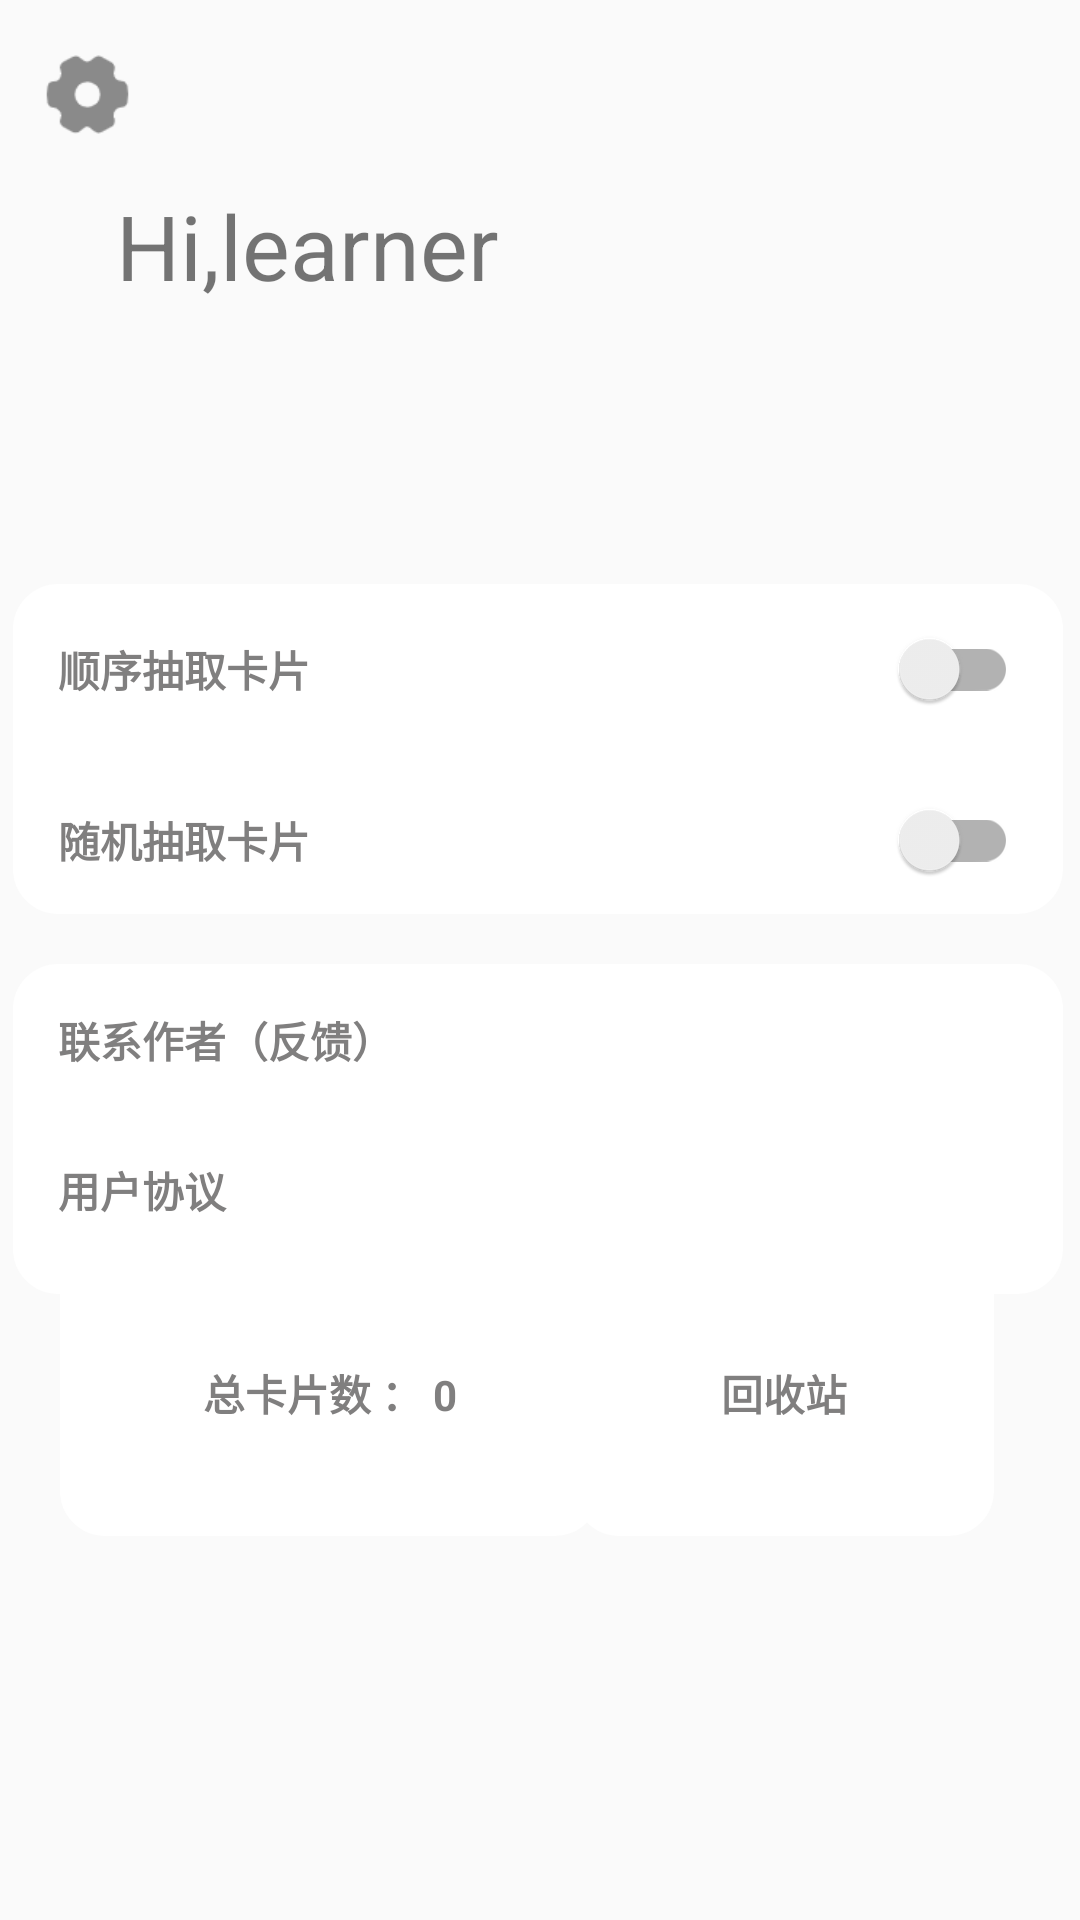

Named icons in this screenshot (1080 x 1920) and their centers, (x=x, y=y):
setting: (x=87, y=94)
